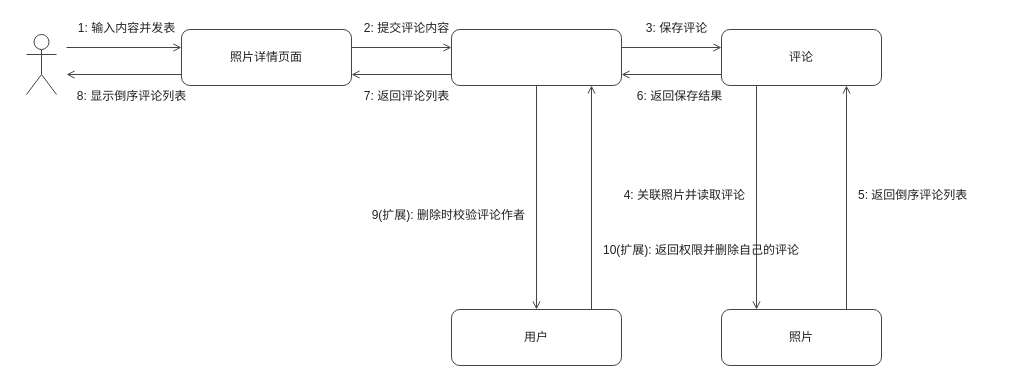
This 1024x383 diagram has some shape labels left out. Here are the shapes that lost their labels. From the top down, the centre of each, then its label:
At point 41,64: "普通用户".
At point 536,57: "评论控制器".
